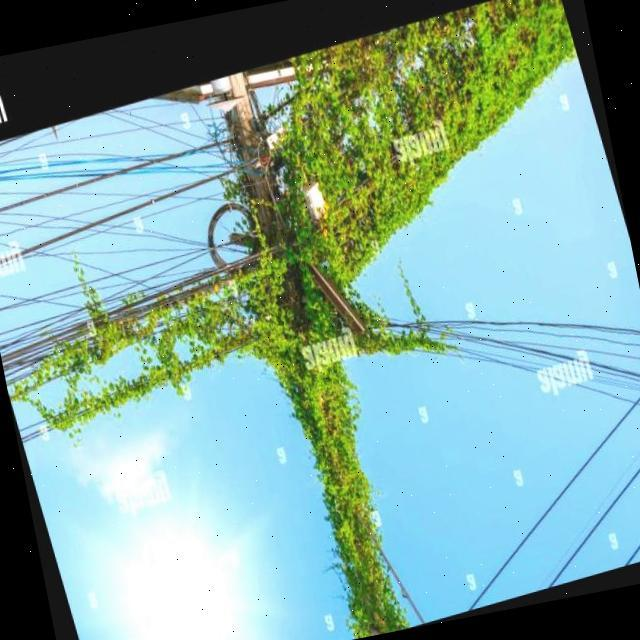critical vegetation: (35, 73, 628, 640)
